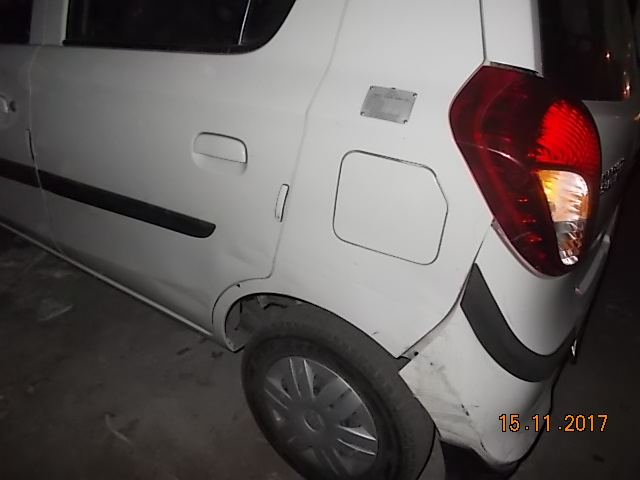Dislocation: (402, 312, 457, 374)
